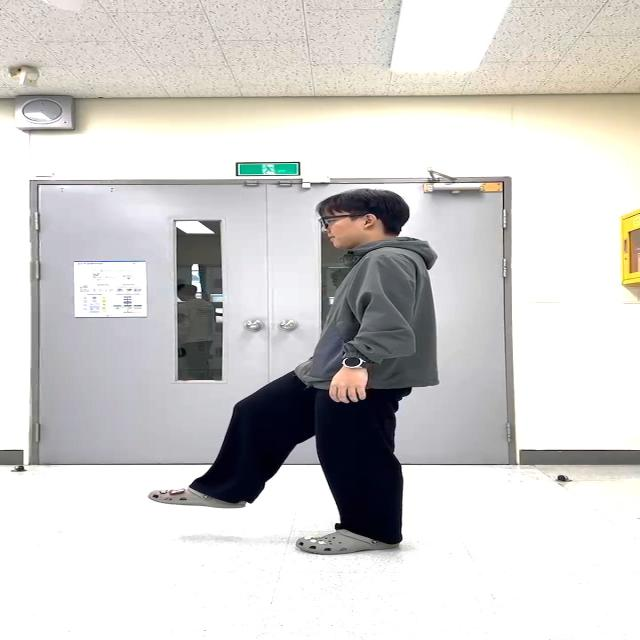leg: (147, 369, 316, 508), (296, 387, 405, 553)
